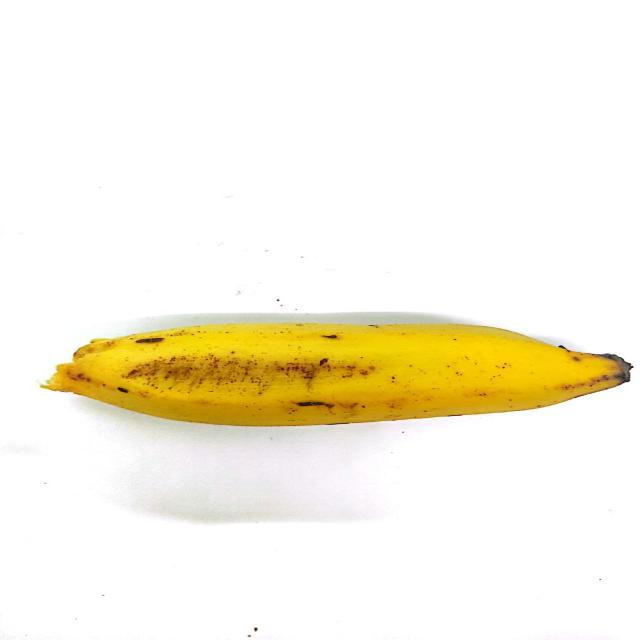fresh_banana: (36, 320, 633, 429)
